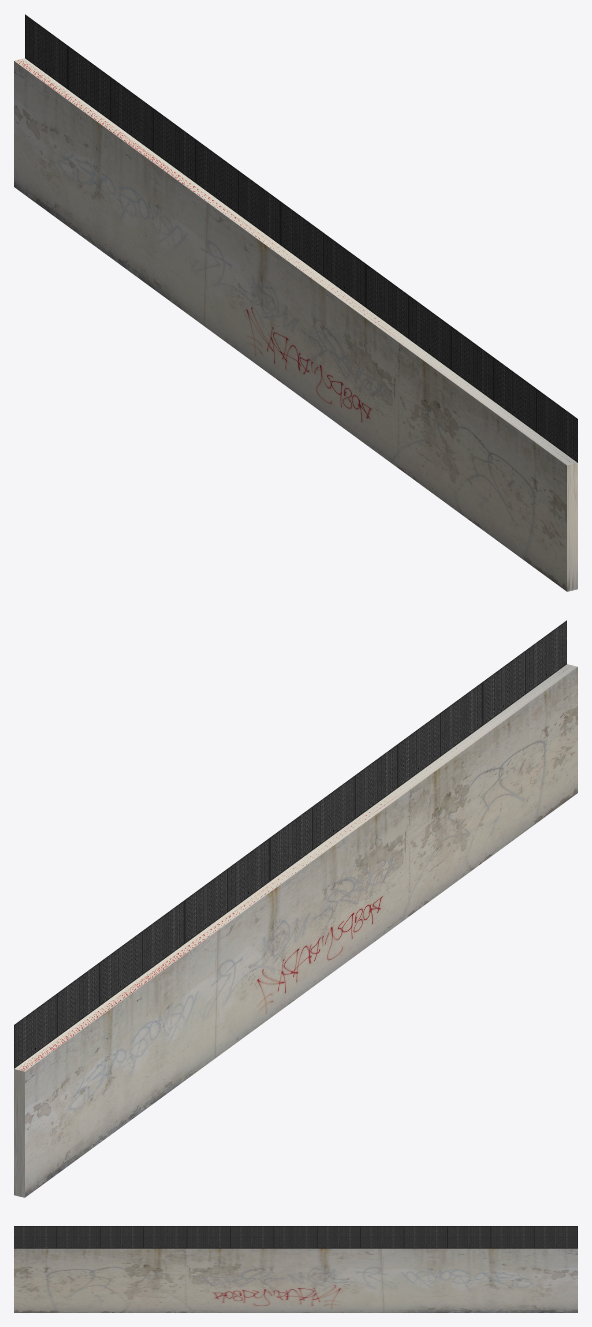
3 renders of one model, top to bottom at view 1: azimuth 30°, elevation 25°; view 2: azimuth 150°, elevation 25°; view 3: azimuth 270°, elevation 25°, orthographic. The views are drawn at different scales.
Parts seen in each view (by area): view 1: polySurface1; view 2: polySurface1; view 3: polySurface1.
Boxes of the visible parts, x1,y1,x2,y2 form: polySurface1: [14, 14, 577, 591]; polySurface1: [14, 620, 577, 1197]; polySurface1: [14, 1226, 577, 1312].
Bounding box in the file's own units: 0.09 × 1.35 × 7.94.
Materials: 2 (2 with a texture image).
